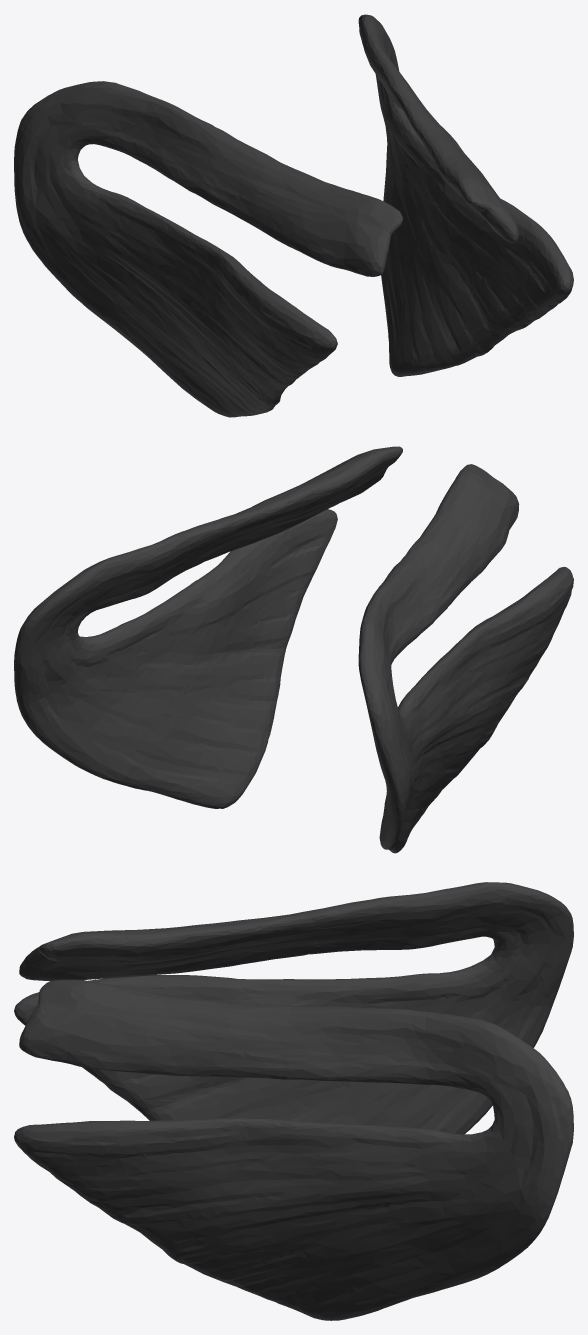
Rendered from m_orbicularis_oris.glb.
The picture shows the model from 3 angles, top to bottom: view 1: azimuth 30°, elevation 25°; view 2: azimuth 150°, elevation 25°; view 3: azimuth 270°, elevation 25°; orthographic projection. The views are drawn at different scales.
Parts seen in each view (by area): view 1: m_orbicularis_oris; view 2: m_orbicularis_oris; view 3: m_orbicularis_oris.
Part boxes in pixels (box(x1,y1,x2,y2)): m_orbicularis_oris: box(14, 14, 573, 417); m_orbicularis_oris: box(14, 446, 573, 853); m_orbicularis_oris: box(14, 882, 573, 1320).
Size of the model in its own units: 0.00179 by 0.00129 by 0.00204.
Materials: 1 (1 with a texture image).
